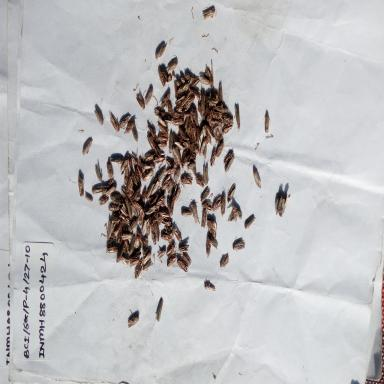pbw: (126, 308, 141, 331), (232, 236, 246, 260), (222, 154, 238, 174), (252, 164, 263, 193), (154, 40, 168, 62), (232, 101, 243, 128), (202, 4, 216, 25), (200, 181, 212, 205), (131, 257, 143, 281), (81, 136, 94, 158), (218, 250, 231, 272), (164, 237, 177, 258), (154, 297, 164, 324), (158, 90, 172, 109), (166, 55, 180, 74), (108, 112, 120, 134), (104, 159, 116, 181), (93, 106, 105, 128), (243, 212, 256, 232), (166, 250, 178, 270), (142, 249, 154, 269), (104, 220, 116, 240), (205, 65, 215, 89), (264, 109, 272, 139), (134, 90, 146, 110), (110, 221, 121, 242), (208, 217, 218, 240), (189, 202, 199, 225), (201, 280, 216, 295), (104, 182, 118, 198), (207, 233, 220, 250), (179, 89, 192, 106), (226, 183, 237, 203), (131, 122, 141, 144), (155, 192, 166, 212), (116, 249, 128, 267), (167, 132, 176, 156), (142, 258, 156, 273), (273, 193, 283, 214), (124, 118, 137, 134), (230, 204, 243, 220), (176, 257, 188, 274), (77, 171, 84, 200), (93, 161, 103, 181), (119, 157, 129, 177), (119, 112, 130, 130), (184, 94, 195, 112), (145, 86, 154, 108), (215, 140, 226, 158), (176, 82, 190, 96), (110, 154, 124, 168), (168, 193, 176, 217), (188, 141, 200, 157), (118, 200, 126, 224), (176, 70, 188, 86), (146, 133, 156, 152), (213, 191, 222, 212), (106, 202, 119, 216), (142, 170, 155, 184), (173, 185, 182, 205), (151, 178, 161, 196), (209, 148, 218, 168), (190, 70, 200, 88), (166, 98, 175, 118), (206, 123, 216, 141), (217, 81, 225, 103), (157, 114, 168, 130), (192, 106, 200, 128), (157, 68, 166, 87), (157, 244, 167, 261), (136, 155, 146, 172), (224, 147, 234, 164), (160, 220, 174, 232), (174, 138, 188, 150), (202, 166, 210, 187), (106, 243, 120, 255), (144, 204, 156, 218), (199, 90, 206, 114), (155, 152, 166, 167), (181, 173, 192, 188), (174, 228, 184, 244), (172, 150, 182, 166), (182, 251, 192, 267), (132, 186, 142, 202), (202, 140, 210, 160), (228, 210, 238, 226), (139, 186, 147, 206), (110, 193, 122, 206), (222, 122, 234, 135), (155, 169, 167, 182), (123, 166, 130, 188), (161, 178, 172, 192), (90, 184, 104, 195), (204, 236, 211, 258), (173, 118, 184, 132), (197, 104, 206, 121), (130, 152, 139, 169), (126, 201, 134, 220), (140, 237, 148, 256), (173, 166, 181, 185), (151, 102, 161, 117), (200, 209, 207, 230), (220, 192, 226, 216), (146, 182, 154, 200), (195, 174, 204, 190), (199, 74, 211, 86), (206, 98, 218, 110), (180, 207, 191, 220), (127, 258, 140, 269), (146, 122, 156, 136), (188, 157, 198, 171), (183, 68, 193, 82), (183, 118, 190, 137), (157, 133, 168, 145), (207, 113, 218, 125), (128, 236, 134, 258), (222, 113, 234, 124), (176, 106, 187, 118), (128, 219, 138, 232), (98, 193, 108, 206), (130, 204, 138, 220), (216, 128, 224, 144), (161, 67, 169, 83), (181, 154, 190, 168), (141, 219, 148, 237), (150, 228, 157, 246), (219, 106, 230, 117), (160, 232, 170, 244), (165, 166, 177, 176), (179, 242, 189, 254), (143, 152, 155, 162), (154, 218, 159, 242), (172, 79, 178, 99), (159, 210, 170, 220), (201, 202, 213, 211), (122, 232, 134, 241), (138, 208, 144, 226), (135, 171, 142, 186), (120, 186, 128, 199), (145, 220, 151, 237), (201, 121, 207, 138), (83, 194, 93, 204), (144, 163, 154, 173), (194, 128, 201, 142), (180, 148, 188, 160), (158, 122, 166, 134), (168, 225, 173, 244), (156, 141, 166, 150), (134, 234, 140, 248), (132, 172, 138, 186), (166, 157, 172, 168)
